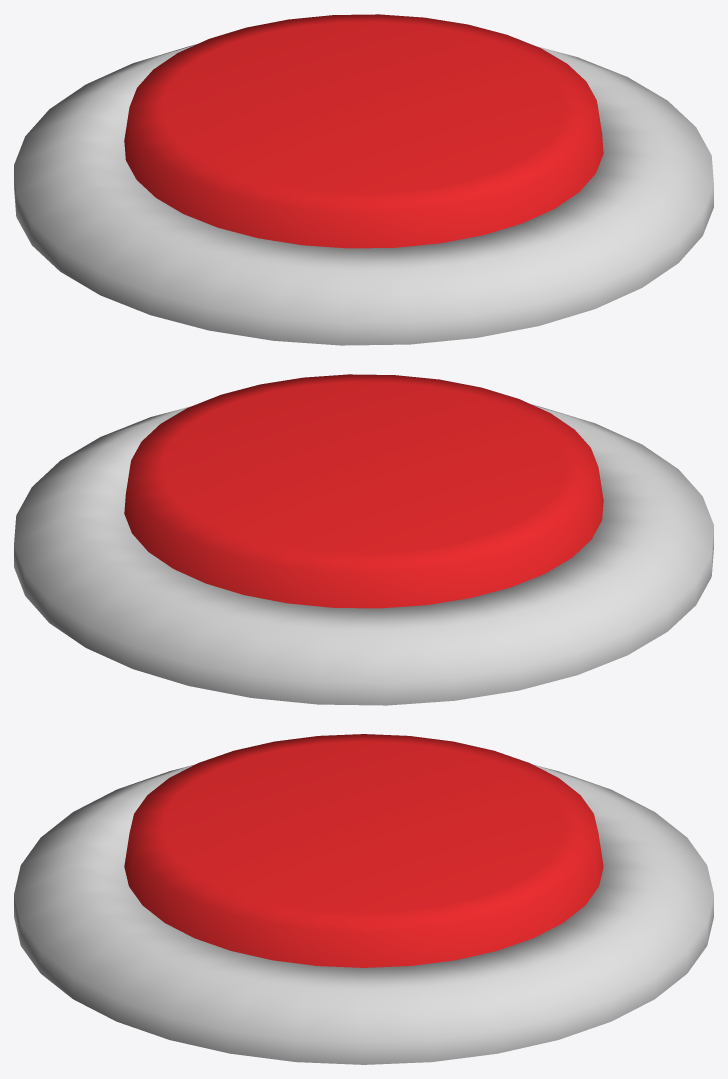
Rendered from button0001.fbx.
3 views of the same model, one above another, from view 1: azimuth 30°, elevation 25°; view 2: azimuth 150°, elevation 25°; view 3: azimuth 270°, elevation 25° (orthographic).
Visible parts, largest first — view 1: Cylinder, Cylinder.001; view 2: Cylinder, Cylinder.001; view 3: Cylinder, Cylinder.001.
Boxes of the visible parts, x1=… form: Cylinder: x1=14, y1=44, x2=713, y2=345; Cylinder.001: x1=124, y1=14, x2=603, y2=248; Cylinder: x1=14, y1=404, x2=713, y2=705; Cylinder.001: x1=124, y1=374, x2=603, y2=608; Cylinder: x1=14, y1=764, x2=713, y2=1064; Cylinder.001: x1=124, y1=734, x2=603, y2=967.
Bounding box in the file's own units: 371 × 52.63 × 371.
